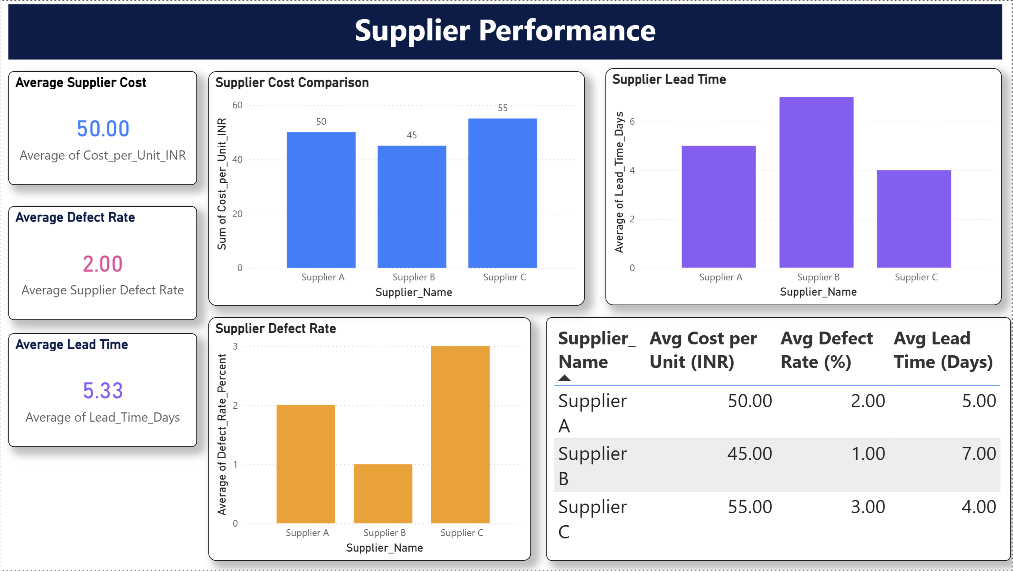

The dashboard page shown, as its layout file describes it:
{"tool":"powerbi","page":{"name":"Supplier Performance","canvas":[1280,720],"ordinal":3},"visuals":[{"type":"tableEx","fields":{"Values":["Supplier_Performance.Supplier_Name","Avg(Supplier_Performance.Cost_per_Unit_INR)","Avg(Supplier_Performance.Defect_Rate_Percent)","Avg(Supplier_Performance.Lead_Time_Days)"]},"box":[691.5,400,588.1,308.5],"z":0},{"type":"clusteredColumnChart","title":"Supplier Defect Rate","fields":{"Category":["Supplier_Performance.Supplier_Name"],"Y":["Avg(Supplier_Performance.Defect_Rate_Percent)"]},"box":[262.7,400,408.5,308.5],"z":1000},{"type":"clusteredColumnChart","title":"Supplier Cost Comparison","fields":{"Category":["Supplier_Performance.Supplier_Name"],"Y":["Sum(Supplier_Performance.Cost_per_Unit_INR)"]},"box":[262.7,88.1,476.3,296.6],"z":2000},{"type":"clusteredColumnChart","title":"Supplier Lead Time","fields":{"Category":["Supplier_Performance.Supplier_Name"],"Y":["Avg(Supplier_Performance.Lead_Time_Days)"]},"box":[766.1,84.7,501.7,300],"z":3000},{"type":"textbox","box":[10.5,3.5,1257.9,70.2],"z":4000},{"type":"card","title":"Average Supplier Cost","fields":{"Values":["Avg(Supplier_Performance.Cost_per_Unit_INR)"]},"box":[10.2,88.1,239,144.1],"z":4001},{"type":"card","title":"Average Defect Rate","fields":{"Values":["Supplier_Performance.Average Supplier Defect Rate"]},"box":[10.2,259.3,239,144.1],"z":4002},{"type":"card","title":"Average Lead Time","fields":{"Values":["Avg(Supplier_Performance.Lead_Time_Days)"]},"box":[10.2,420.3,239,144.1],"z":4003}]}

Visuals, with their boxes in screenshot pixels (x1, y1, x2, y2), scaled from the page's 1280x720 canvas onto the 1013x571 screenshot:
tableEx - Supplier_Performance.Supplier_Name x Avg(Supplier_Performance.Cost_per_Unit_INR): <region>547, 317, 1012, 562</region>
"Supplier Defect Rate" clusteredColumnChart: <region>208, 317, 531, 562</region>
"Supplier Cost Comparison" clusteredColumnChart: <region>208, 70, 585, 305</region>
"Supplier Lead Time" clusteredColumnChart: <region>606, 67, 1003, 305</region>
textbox: <region>8, 3, 1004, 58</region>
"Average Supplier Cost" card: <region>8, 70, 197, 184</region>
"Average Defect Rate" card: <region>8, 206, 197, 320</region>
"Average Lead Time" card: <region>8, 333, 197, 448</region>
